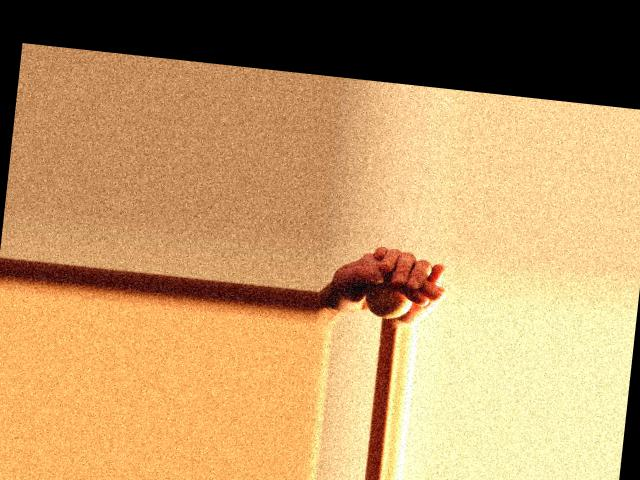egg: (363, 283, 413, 320)
